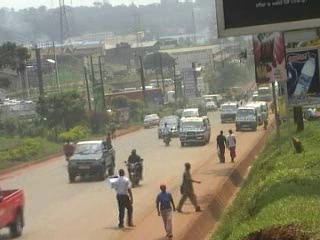Car: (154, 114, 181, 139), (139, 112, 164, 128), (204, 101, 220, 112), (173, 106, 187, 118)
Motorcycle: (124, 153, 144, 187), (160, 122, 175, 146), (62, 137, 76, 162)
